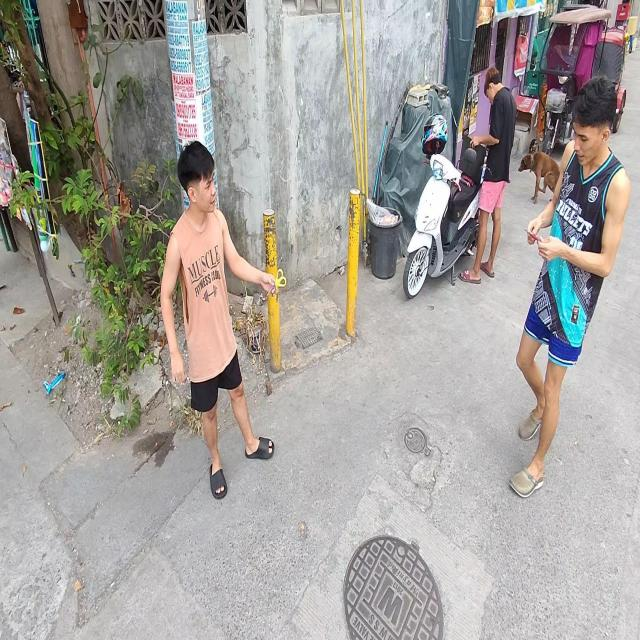scissor: (266, 269, 286, 297), (523, 228, 541, 243)
